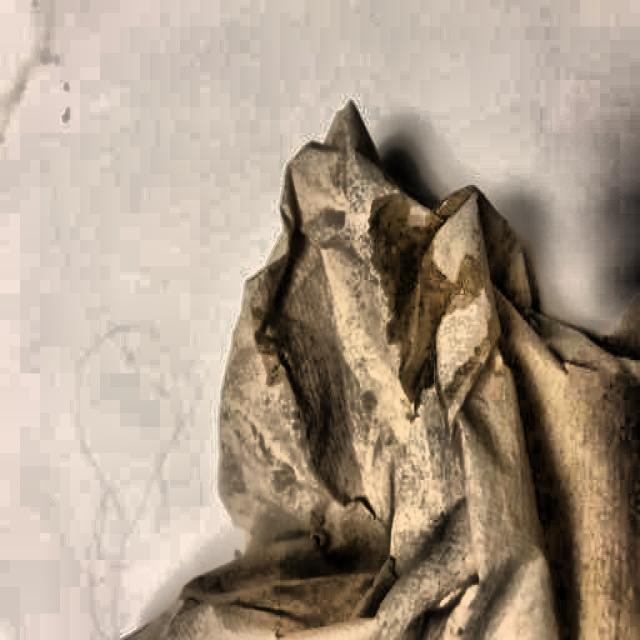trash: (209, 121, 611, 640)
